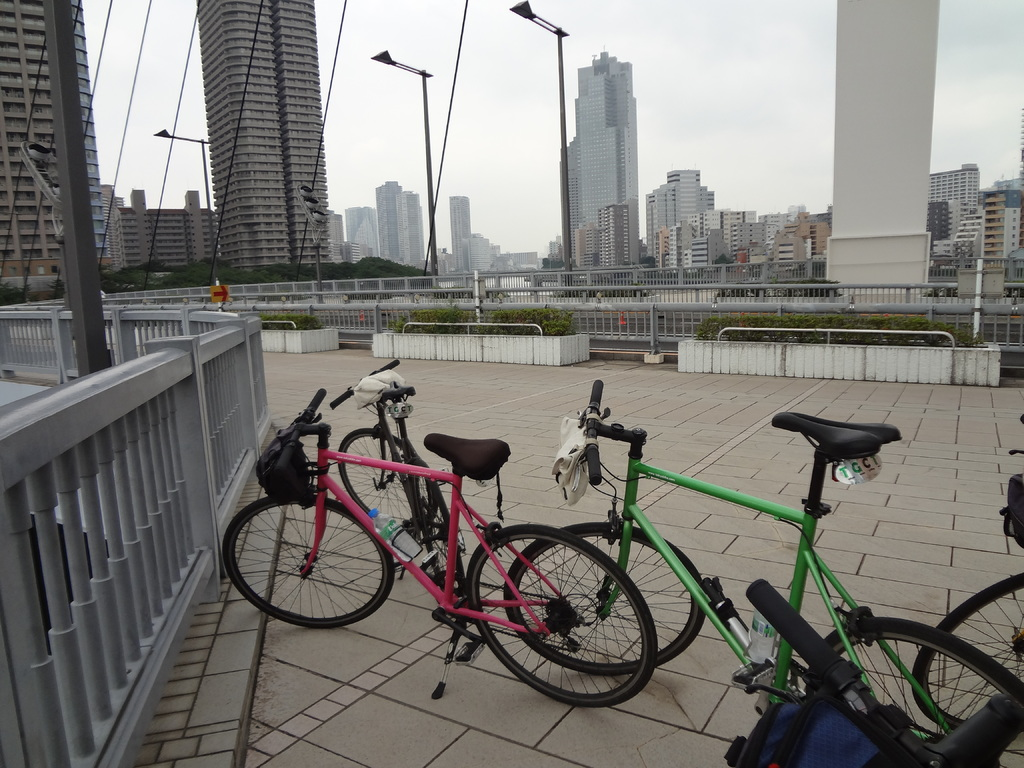Bike_away: (223, 430, 661, 717)
